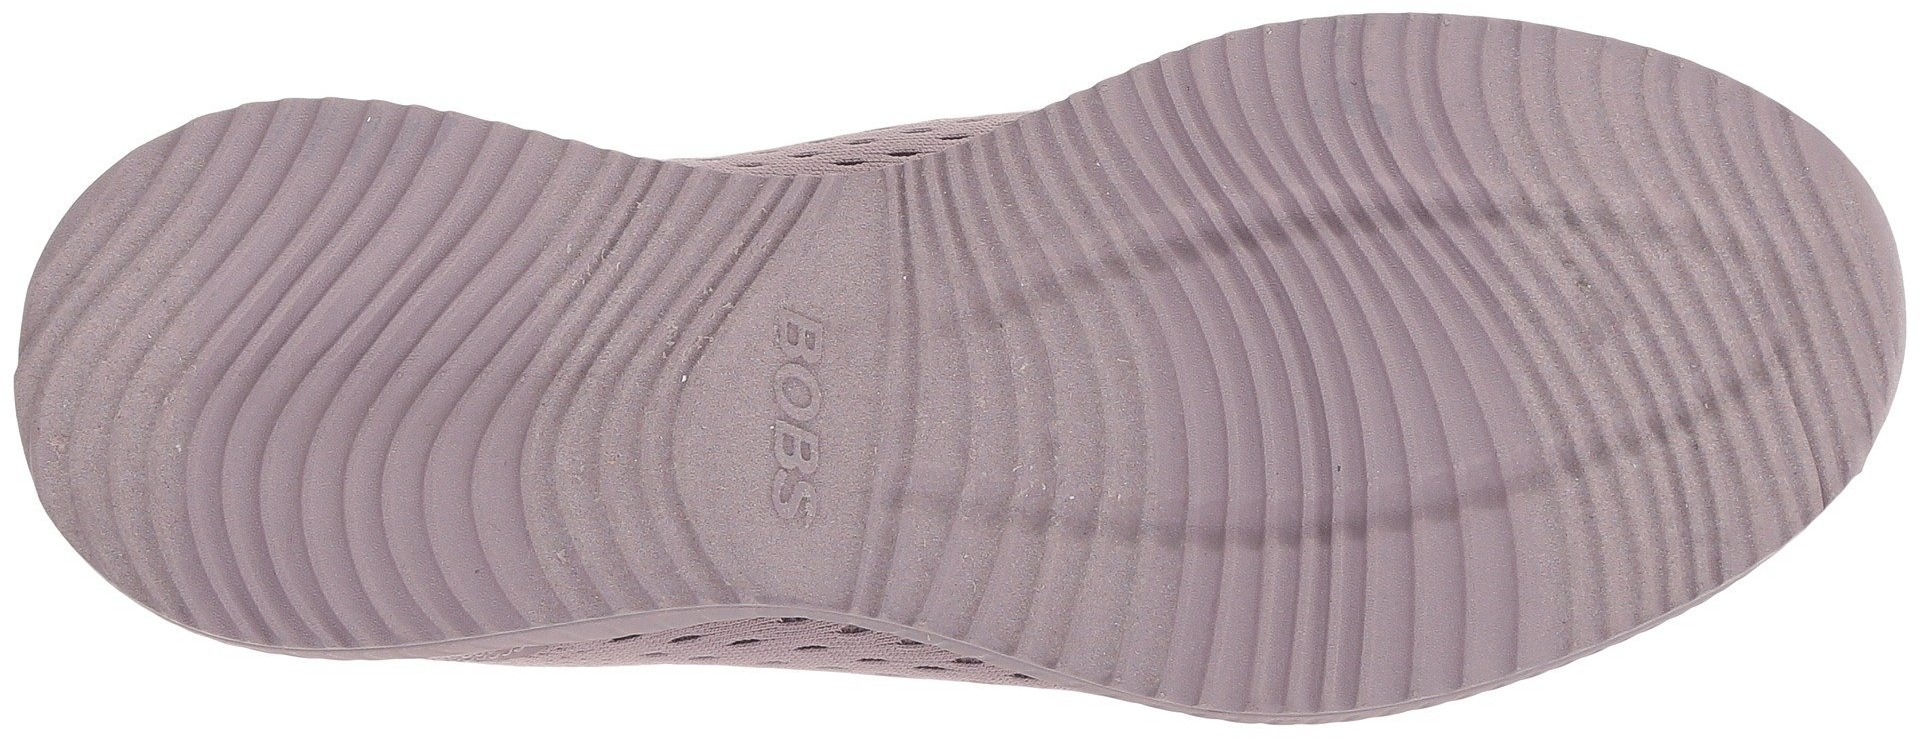line: (125, 140, 622, 611), (900, 284, 1196, 556)
text: (670, 289, 938, 535), (738, 304, 851, 420), (740, 419, 850, 527)
